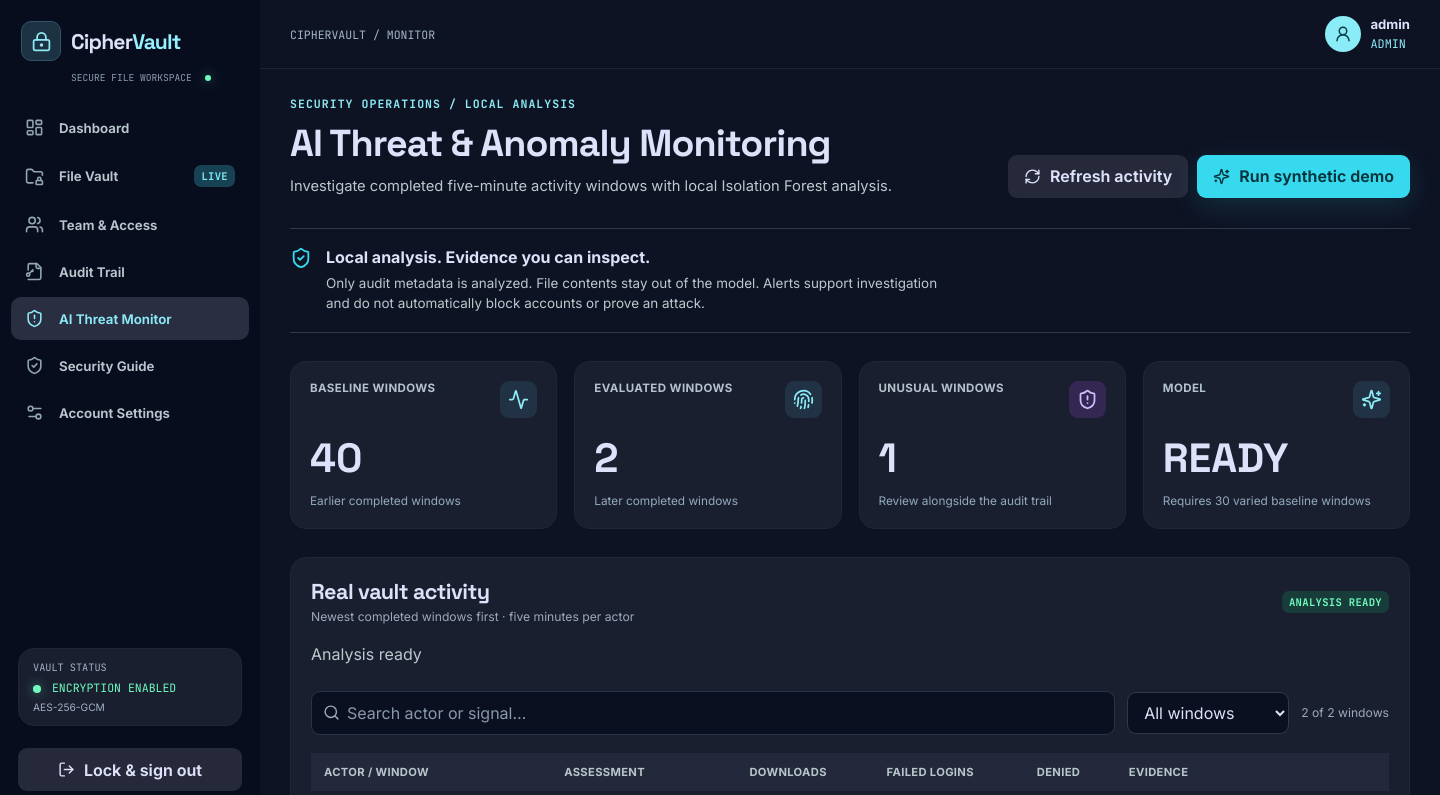
Test case: filters monitoring windows and reveals the evidence behind an alert
The width and height of the screenshot is (1440, 795).
Expected: the field named "Search real activity" is shown, x1=347 y1=692 x2=1103 y2=734
Select "Needs review" in the dropdown named "Filter real activity": (1208,713) x1=1127 y1=692 x2=1289 y2=734
(page scrolled)
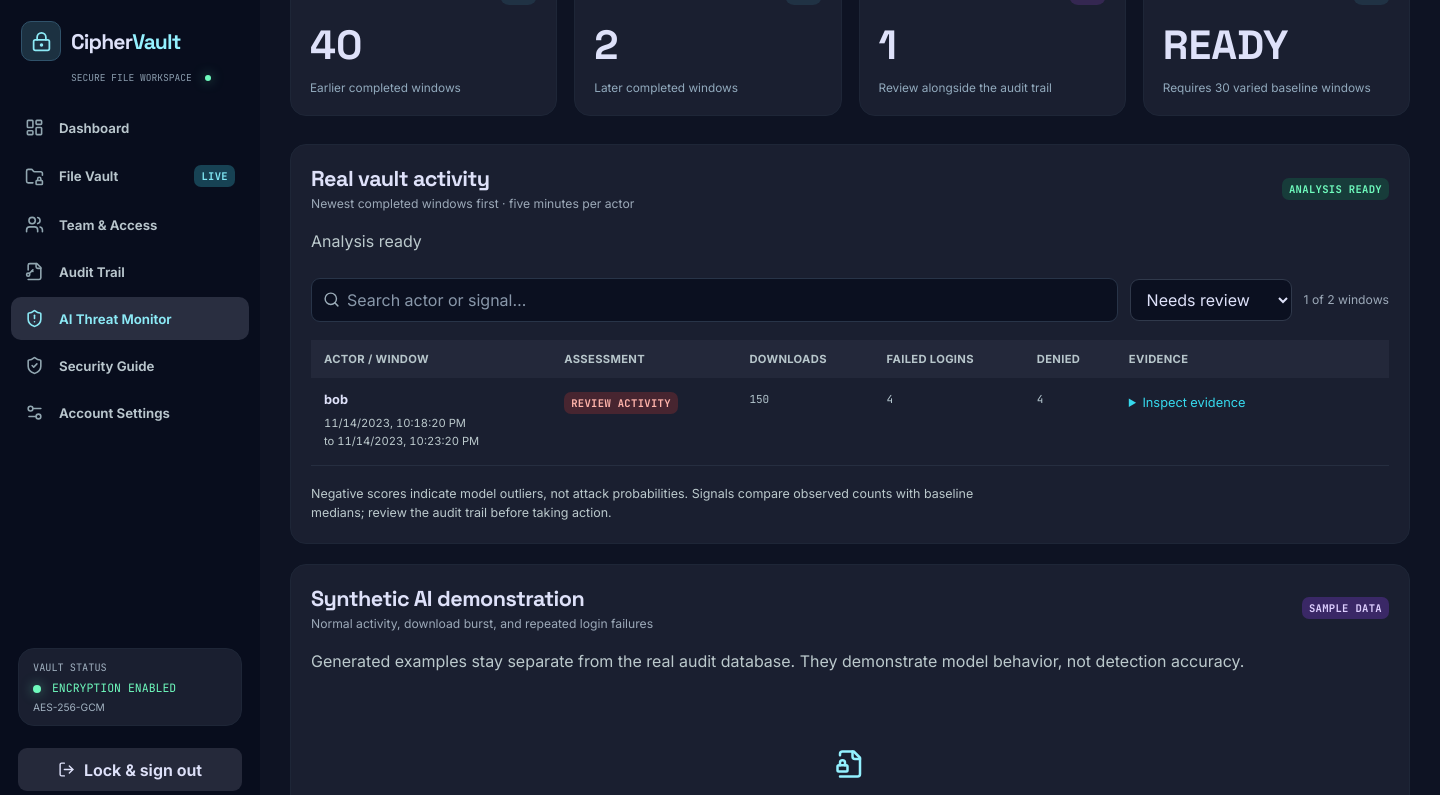
Click the heading "Inspect evidence": (1194,402) x1=1142 y1=395 x2=1246 y2=410
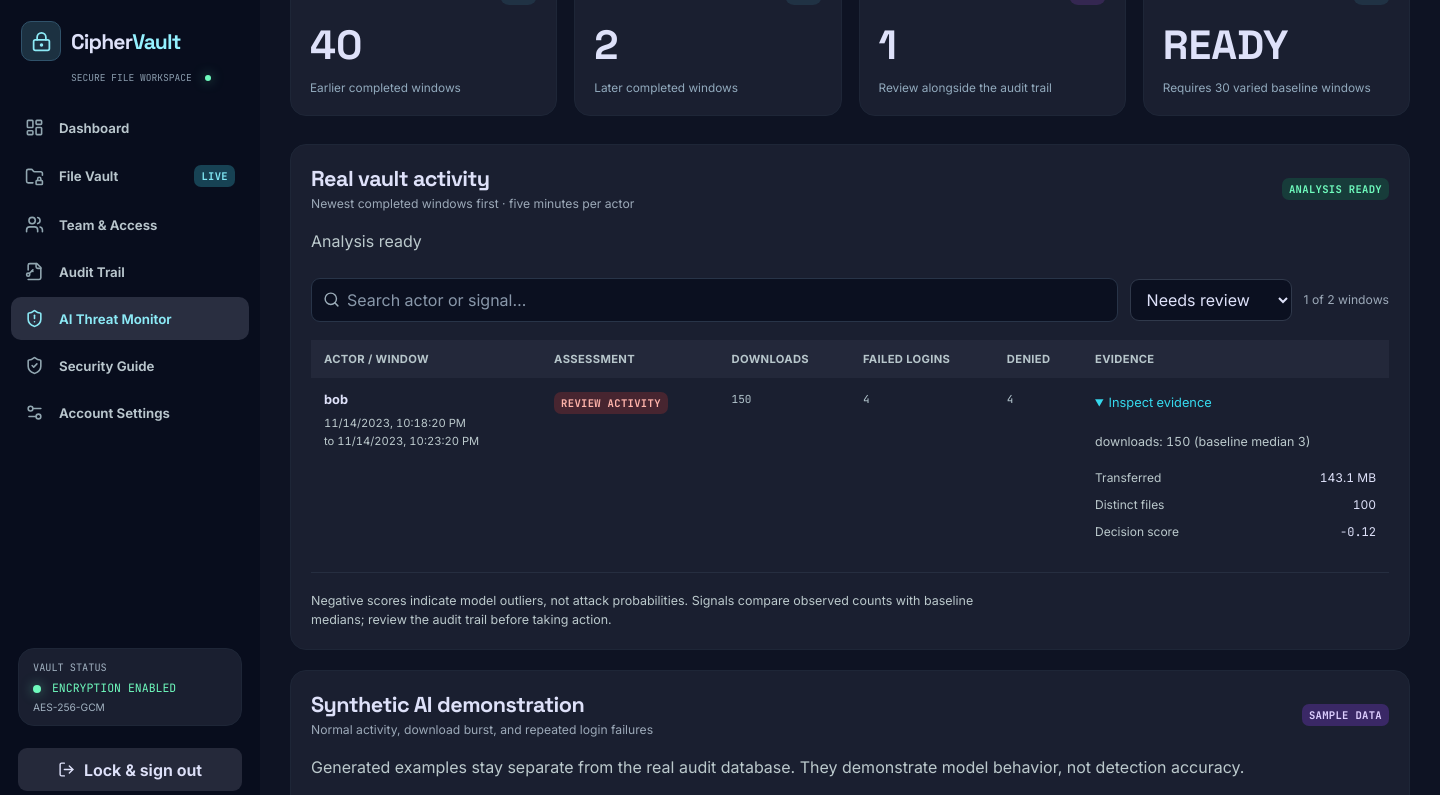
Expected: the text "Negative scores indicate model outliers" is shown, x1=311 y1=593 x2=973 y2=627
Now the text "downloads: 150 (baseline median 3)" is shown, box x1=1095 y1=434 x2=1311 y2=449
In the field named "Search real activity": (726,300) x1=347 y1=279 x2=1106 y2=321, type "missing-user"
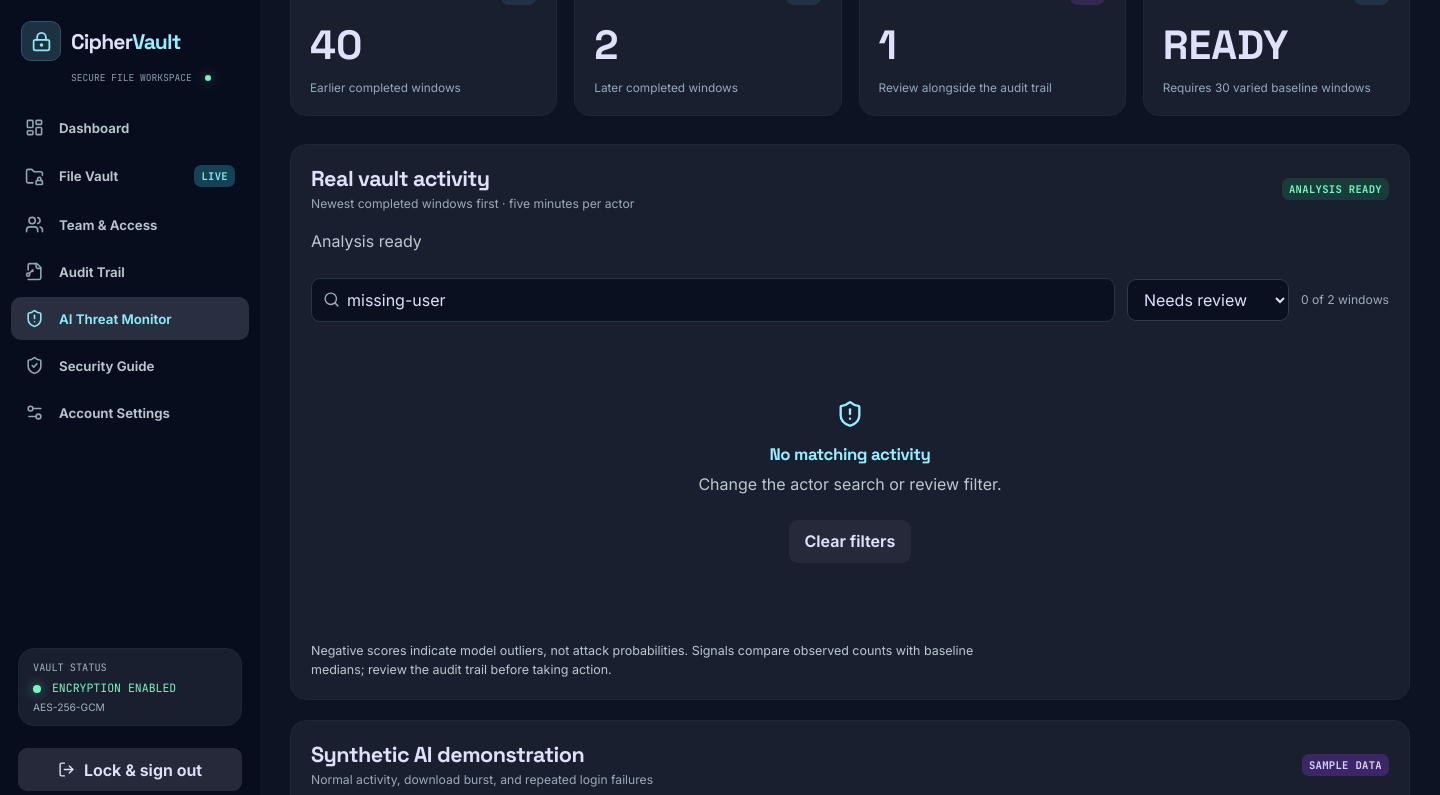
Now the heading "No matching activity" is shown, box x1=770 y1=443 x2=930 y2=465
